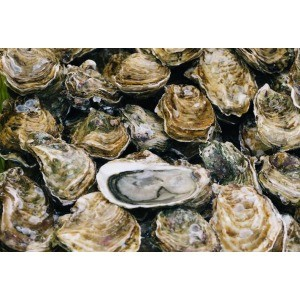oyster_brain food: (43, 94, 277, 208)
